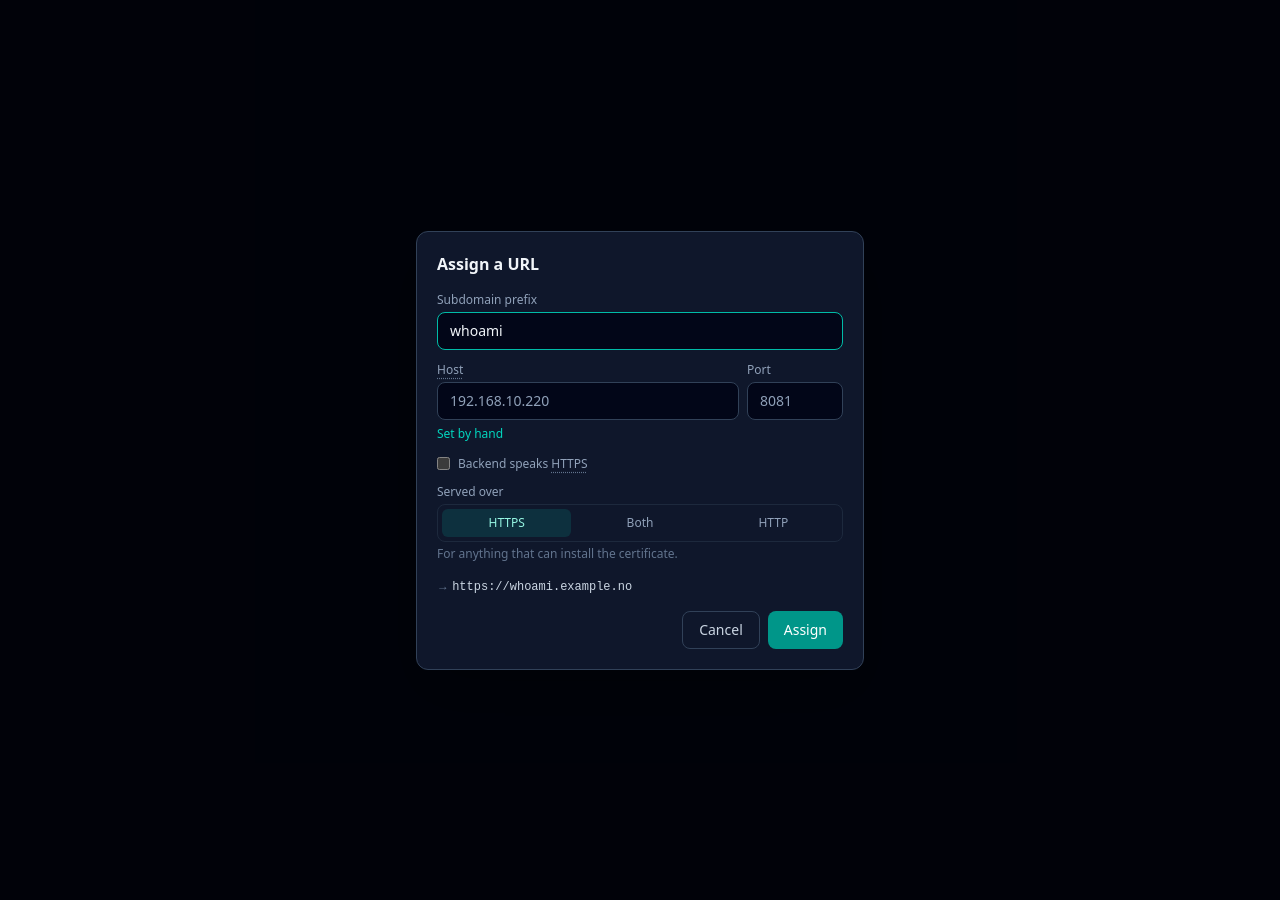
Scenario: a following route shows the container's address, locked
Later steps or results of the test are not shown.
Expected: the dropdown named "Host" holds "192.168.10.220", [437,382,739,420]
Expected: the field labelled "Port" holds "8081", [747,382,843,420]
Click the button "Host" at (450, 370), box [437,362,463,378]
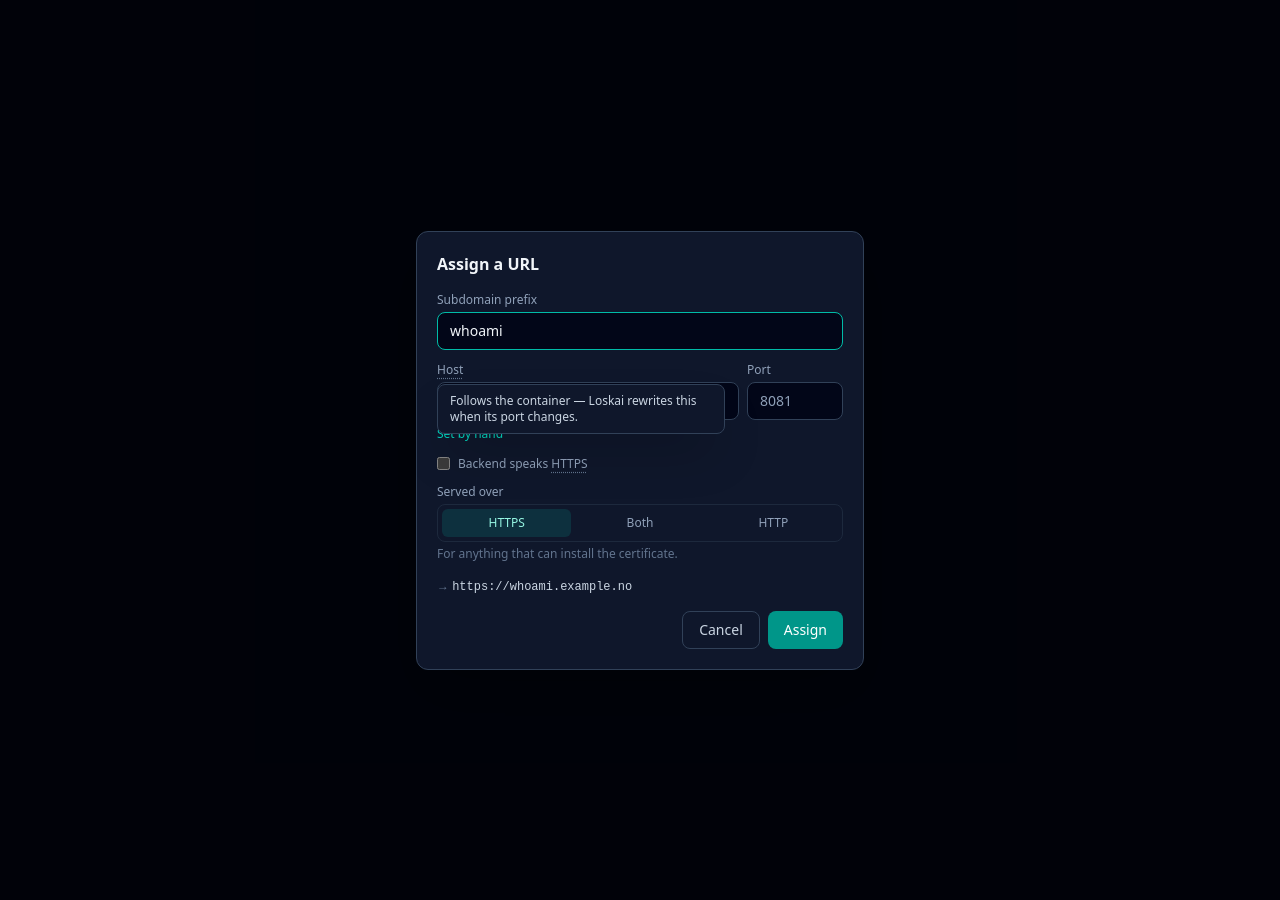
Expected: the tooltip shows "Follows the container", [450,392,697,424]
